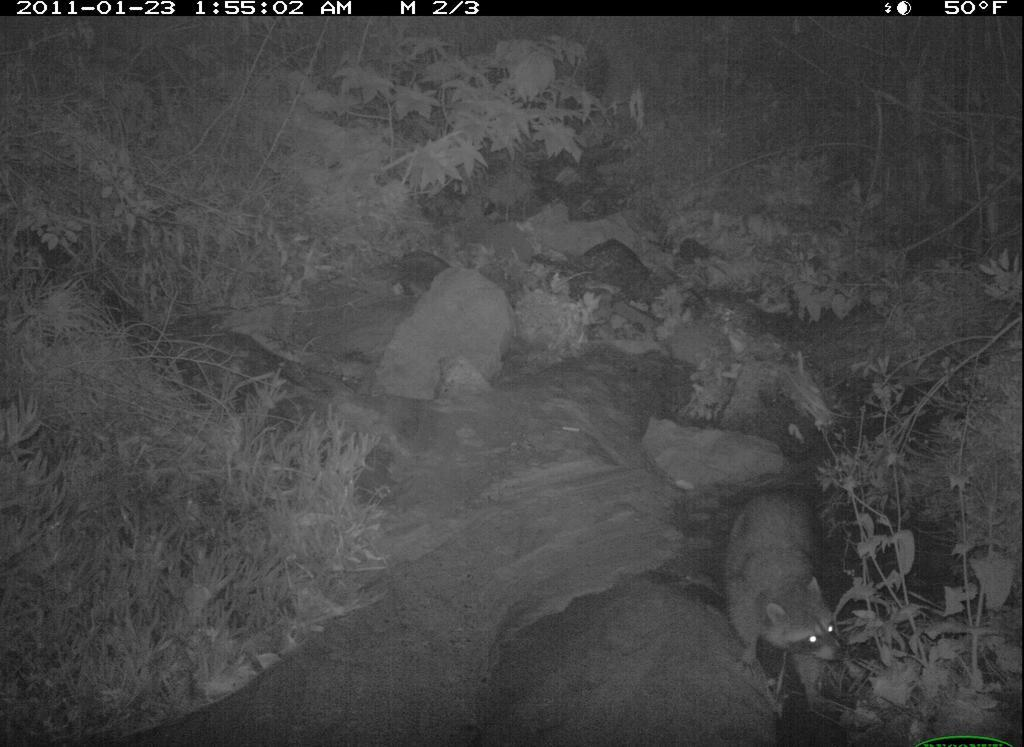raccoon: (708, 479, 868, 713)
